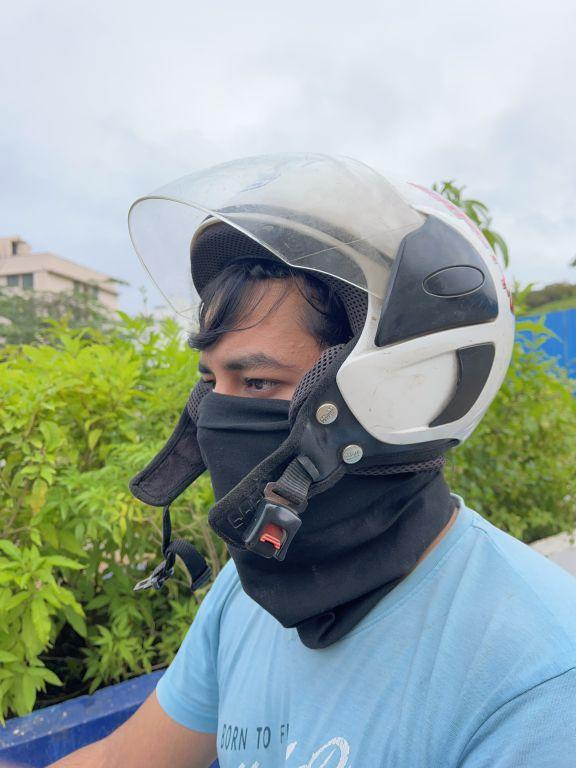helmet: (114, 137, 520, 581)
